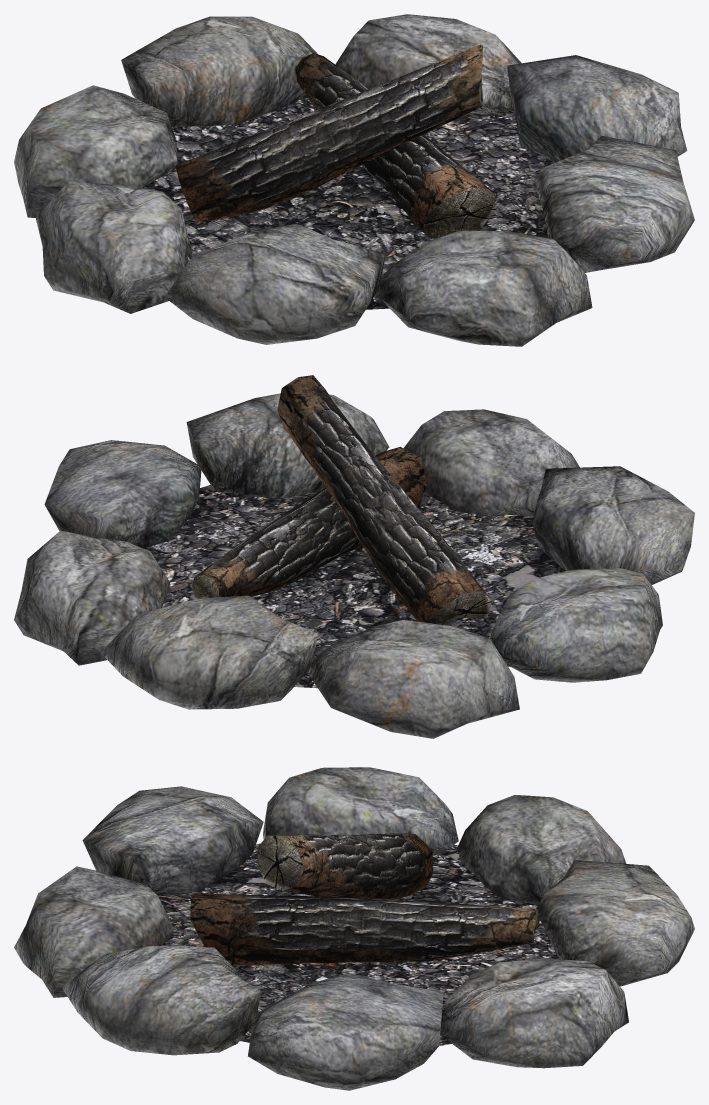
File: firepit.glb
3 renders of one model, top to bottom at view 1: azimuth 30°, elevation 25°; view 2: azimuth 150°, elevation 25°; view 3: azimuth 270°, elevation 25°, orthographic. The views are drawn at different scales.
Visible parts, largest first — view 1: Icosphere_001_Icosphere_002; view 2: Icosphere_001_Icosphere_002; view 3: Icosphere_001_Icosphere_002.
Part boxes in pixels (box(x1,y1,x2,y2)): Icosphere_001_Icosphere_002: box(14, 14, 694, 346); Icosphere_001_Icosphere_002: box(14, 375, 694, 738); Icosphere_001_Icosphere_002: box(14, 767, 694, 1090).
Bounding box in the file's own units: 10.46 × 3.04 × 10.46.
1 material, 1 textured.
